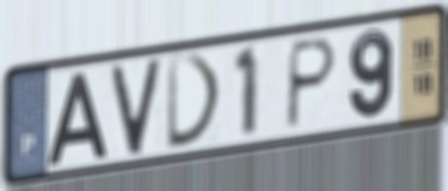1: (231, 44, 263, 141)
9: (346, 24, 396, 124)
A: (44, 69, 110, 168)
D: (165, 50, 226, 154)
P: (282, 34, 340, 134)
V: (107, 54, 165, 160)
